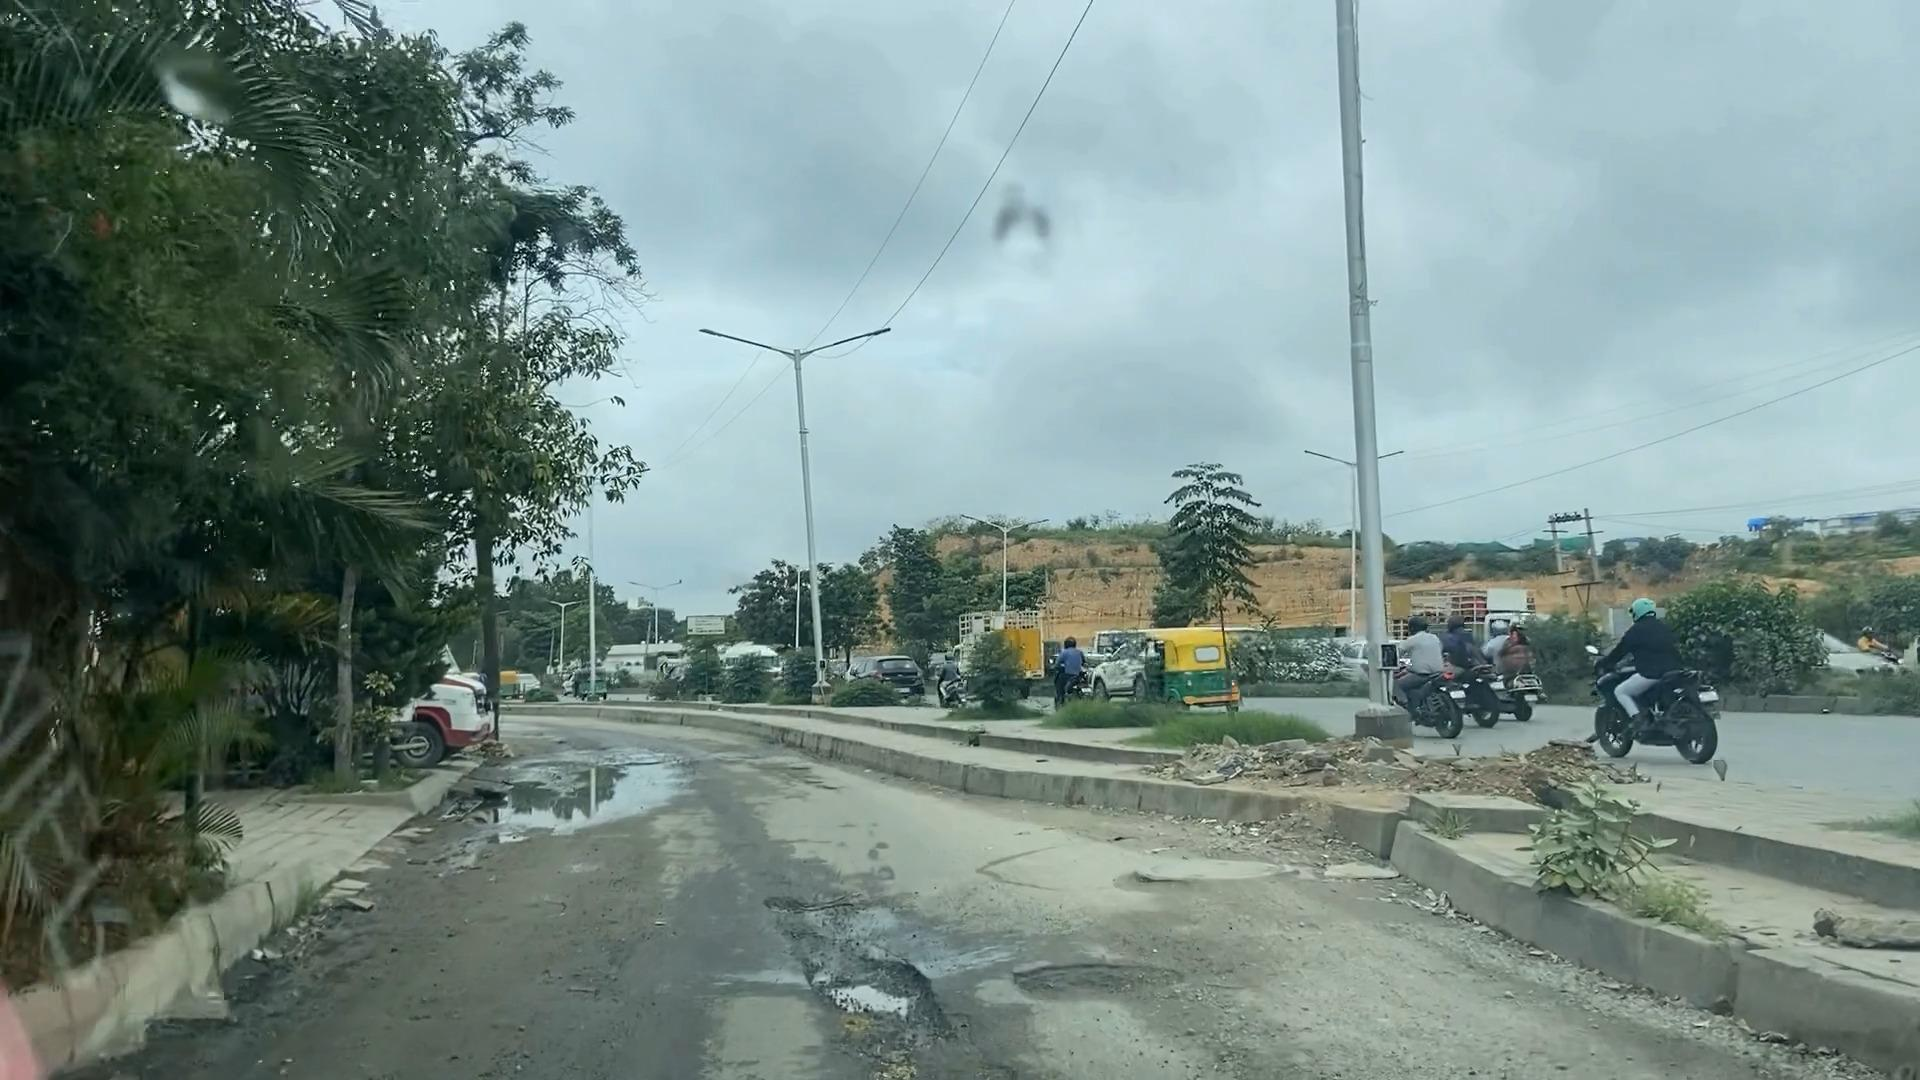RoadDamages: (750, 877, 998, 1080), (996, 940, 1197, 1033), (1103, 840, 1332, 904)
